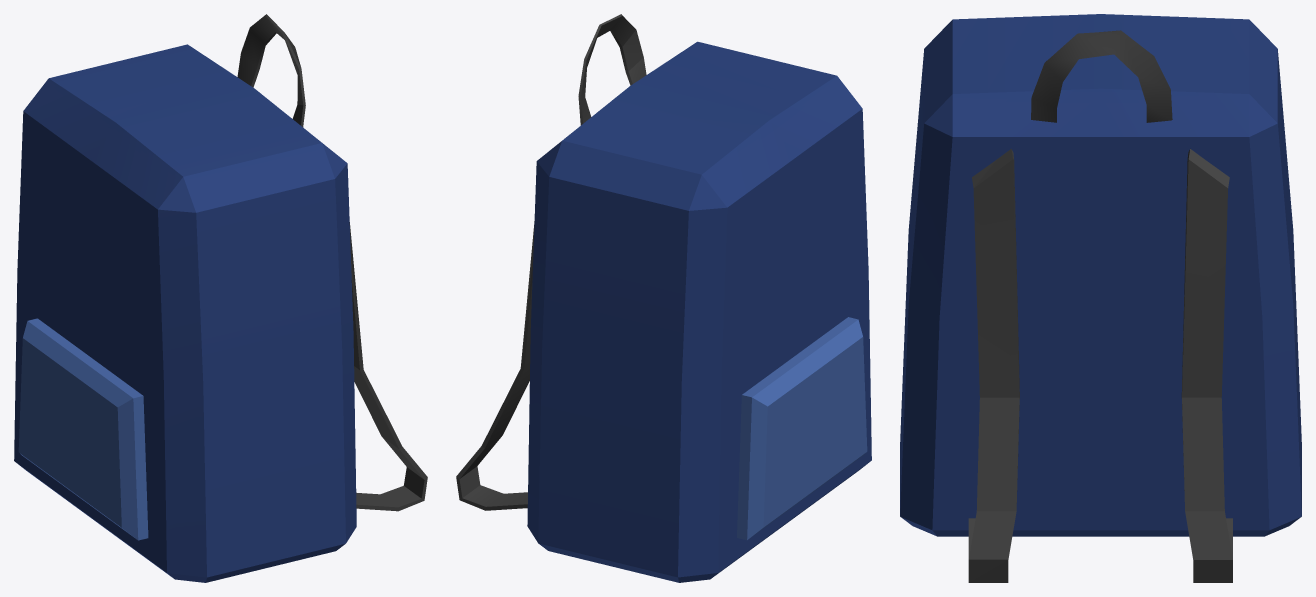
Rendered from Sac_A_Dos_Bleu.fbx.
3 views of the same model, side by side, from view 1: azimuth 30°, elevation 25°; view 2: azimuth 150°, elevation 25°; view 3: azimuth 270°, elevation 25° (orthographic). The views are drawn at different scales.
Visible parts, largest first — view 1: Sac_A_Dos_Bleuté; view 2: Sac_A_Dos_Bleuté; view 3: Sac_A_Dos_Bleuté.
Part boxes in pixels (x1,y1,x2,y2): Sac_A_Dos_Bleuté: (14, 14, 427, 582); Sac_A_Dos_Bleuté: (456, 14, 871, 582); Sac_A_Dos_Bleuté: (900, 14, 1301, 582).
Size of the model in its own units: 31.79 by 47.12 by 33.7.
Materials: 1 (1 with a texture image).
